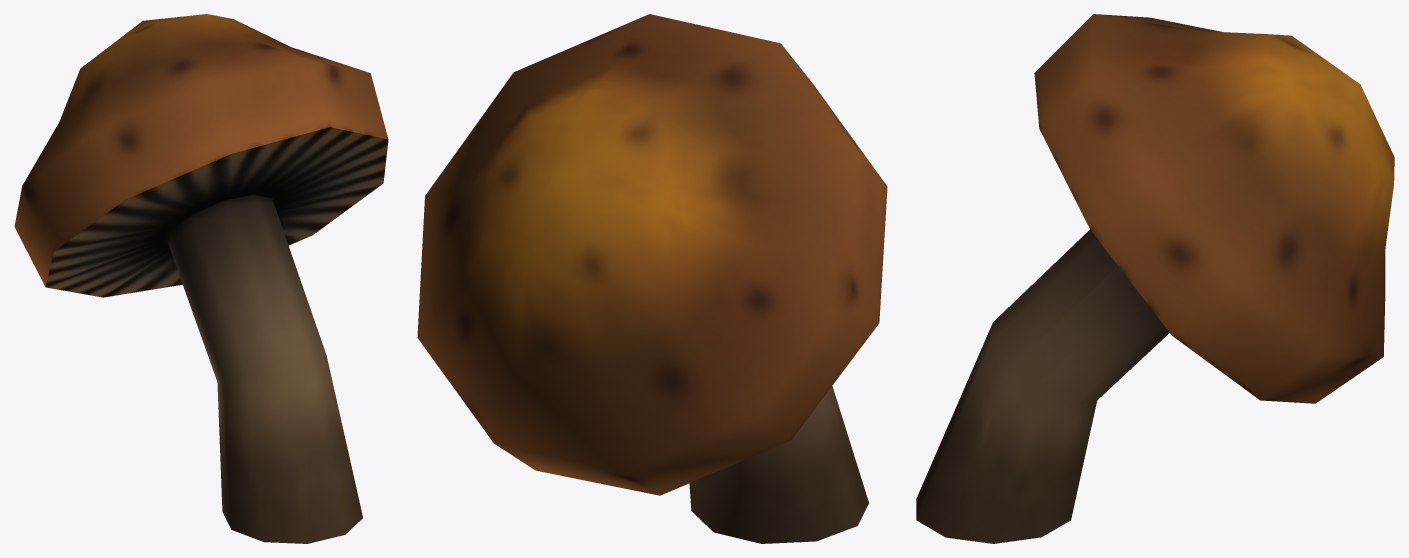
Rendered from mushroom3.fbx.
3 renders of one model, left to right at view 1: azimuth 30°, elevation 25°; view 2: azimuth 150°, elevation 25°; view 3: azimuth 270°, elevation 25°, orthographic. The views are drawn at different scales.
Visible parts, largest first — view 1: mushroom3; view 2: mushroom3; view 3: mushroom3.
Boxes of the visible parts, bbox=[...] form: mushroom3: bbox=[14, 14, 388, 543]; mushroom3: bbox=[417, 14, 887, 543]; mushroom3: bbox=[916, 14, 1394, 543].
Size of the model in its own units: 34.93 by 40.42 by 37.21.
1 material, 1 textured.
